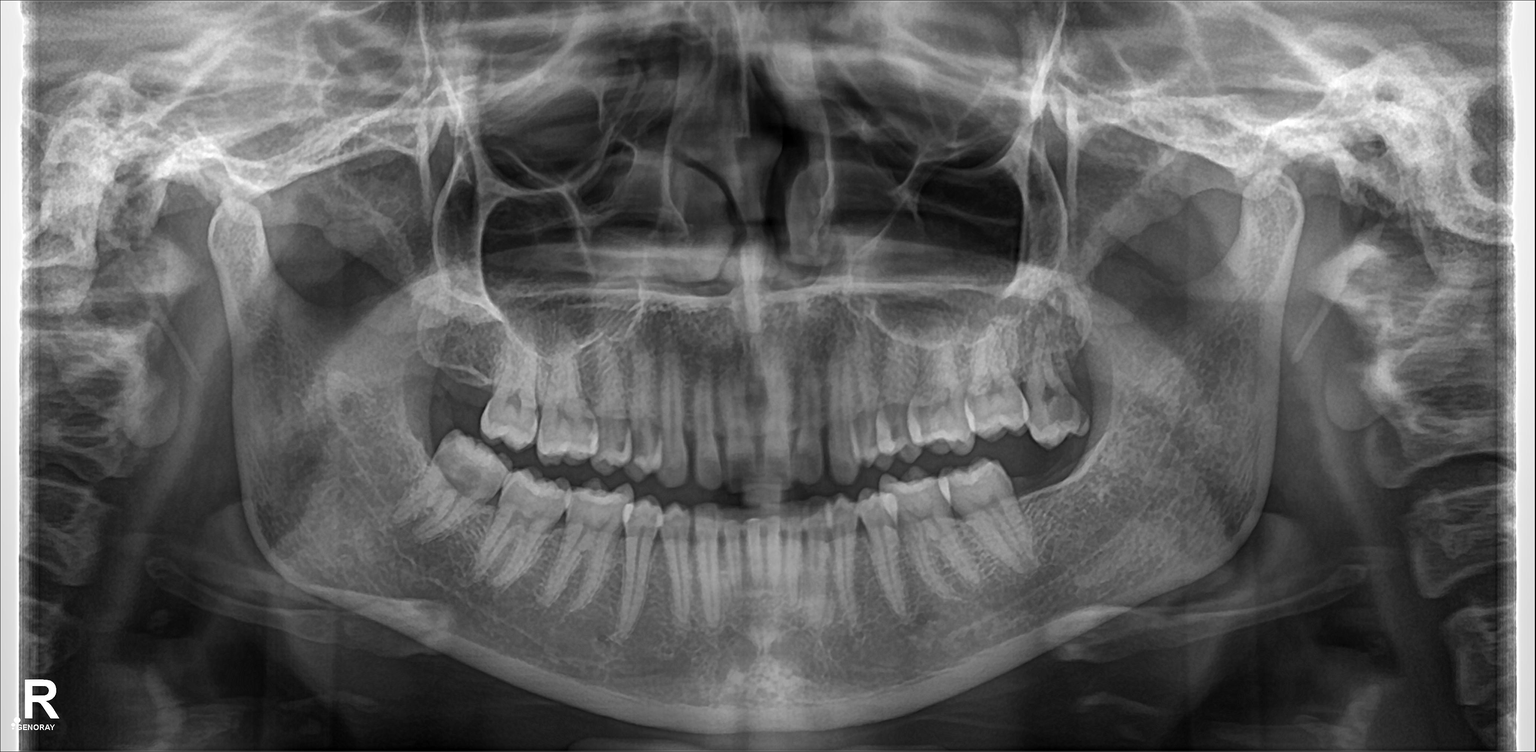Dental Caries: (1043, 376, 1082, 419)
Impacted Third Molar: (395, 433, 504, 536)
Missing Tooth: (439, 350, 492, 423), (1013, 460, 1050, 535), (1058, 449, 1091, 509)
